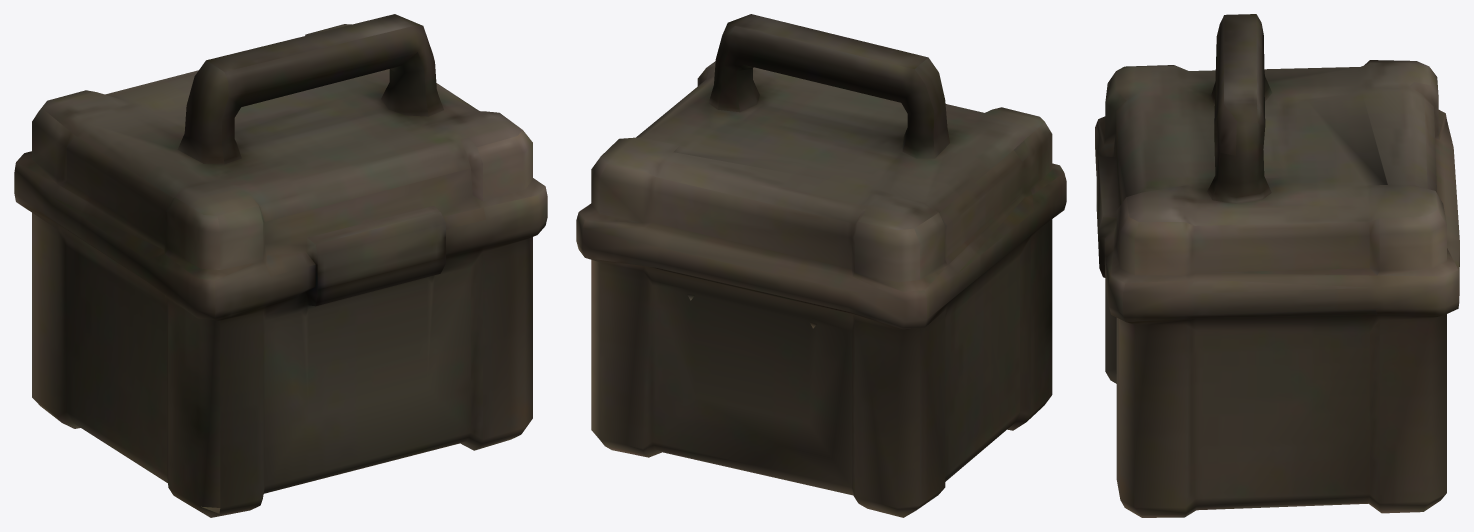
Rendered from ArmourToolBox2.glb.
3 views of the same model, side by side, from view 1: azimuth 30°, elevation 25°; view 2: azimuth 150°, elevation 25°; view 3: azimuth 270°, elevation 25° (orthographic). The views are drawn at different scales.
Visible parts, largest first — view 1: ArmourToolBox2; view 2: ArmourToolBox2; view 3: ArmourToolBox2.
Boxes of the visible parts, box(x1,y1,x2,y2) form: ArmourToolBox2: box(14, 14, 547, 517); ArmourToolBox2: box(576, 14, 1066, 517); ArmourToolBox2: box(1095, 14, 1459, 517).
Size of the model in its own units: 0.3514 by 0.3514 by 0.3004.
1 material, 1 textured.
